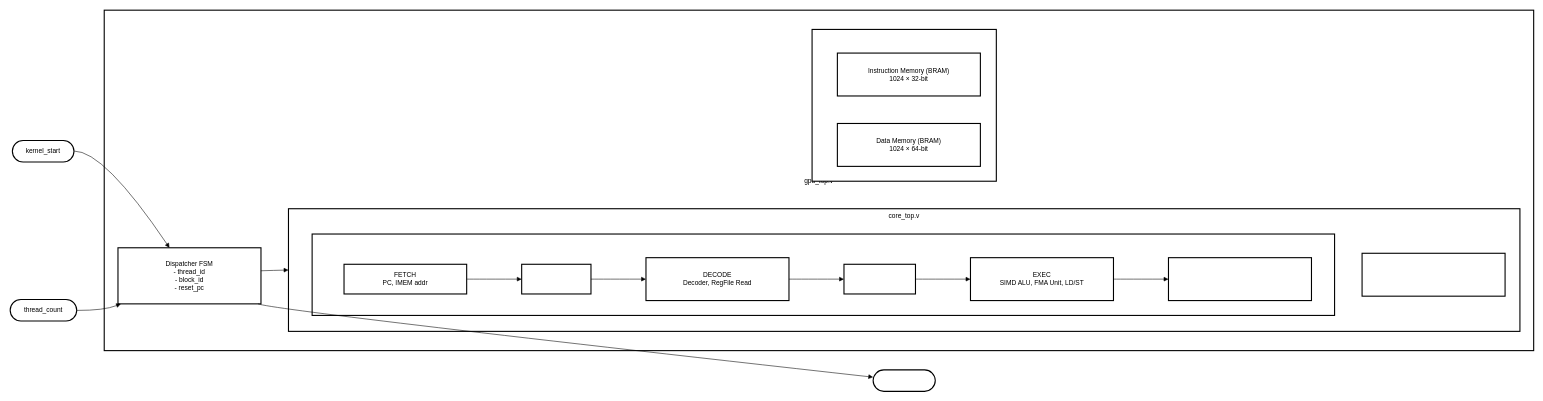
This 1543x401 diagram has some shape labels left out. Here are the shapes that lost their labels. From the top down, the centre of each, then its label:
(x=556, y=278): IF/ID Reg
(x=879, y=278): ID/EX Reg
(x=1240, y=279): WB MUX, ALU/Load -> RegWr
(x=1433, y=274): hazard_unit.v (stall-only, no fwd)
(x=904, y=380): kernel_done
